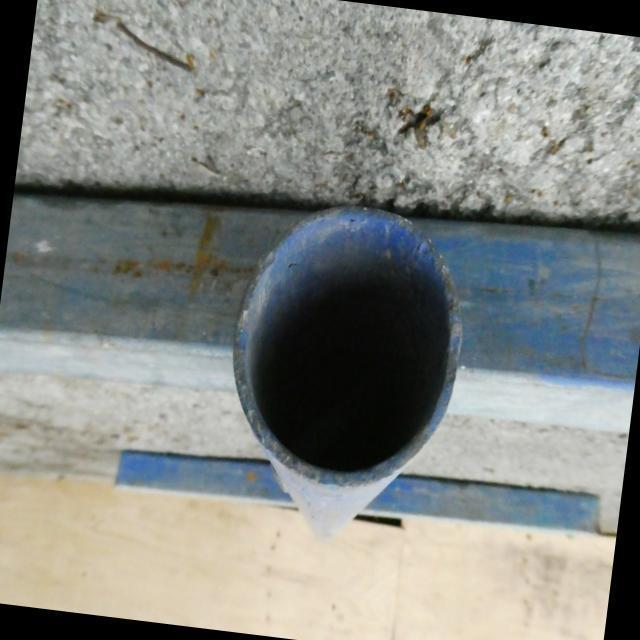pipe: (232, 203, 462, 485)
